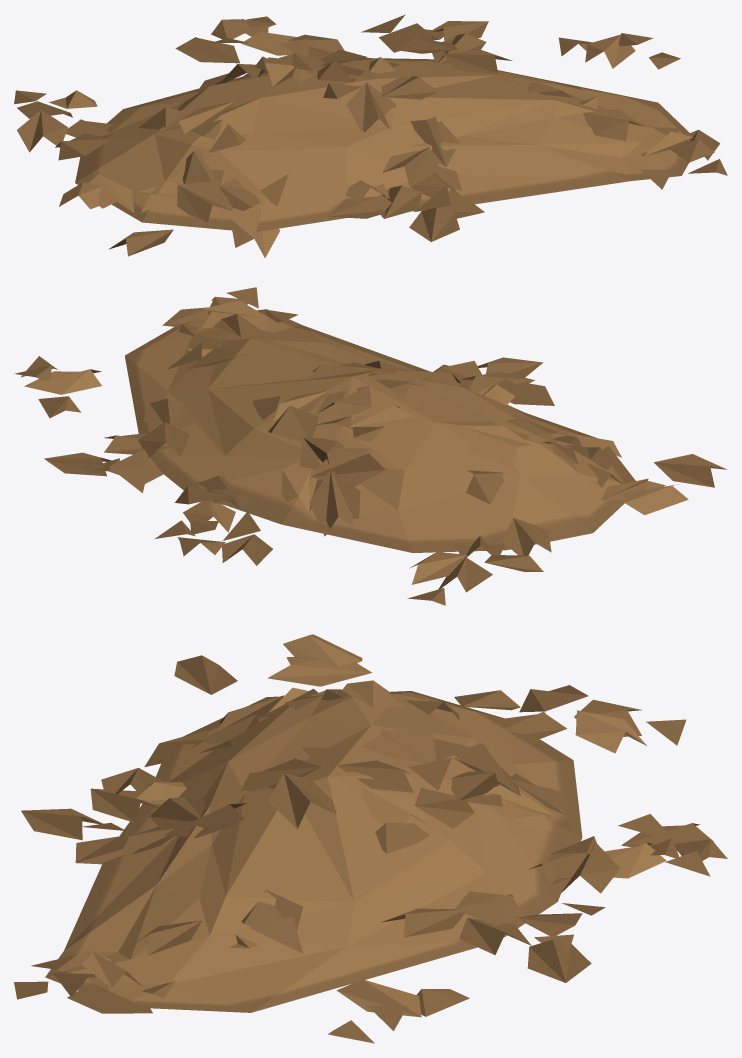
The model's file is SM_Env_Leaves_Pile_01.fbx.
3 views of the same model, one above another, from view 1: azimuth 30°, elevation 25°; view 2: azimuth 150°, elevation 25°; view 3: azimuth 270°, elevation 25° (orthographic). The views are drawn at different scales.
Visible parts, largest first — view 1: SM_Env_Leaves_Pile_01; view 2: SM_Env_Leaves_Pile_01; view 3: SM_Env_Leaves_Pile_01.
Part boxes in pixels (x1,y1,x2,y2): SM_Env_Leaves_Pile_01: [14, 14, 727, 257]; SM_Env_Leaves_Pile_01: [14, 287, 727, 605]; SM_Env_Leaves_Pile_01: [14, 634, 727, 1043].
Size of the model in its own units: 243 by 31.38 by 189.
Materials: 1 (1 with a texture image).
